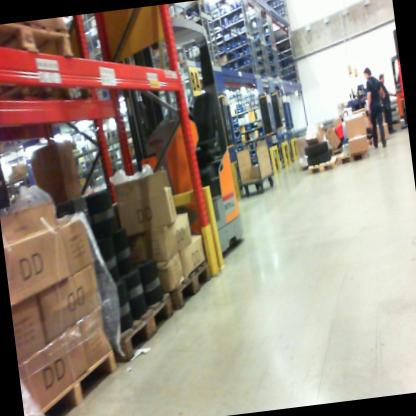forklift: (110, 0, 260, 278), (385, 27, 408, 134)
pallet: (0, 15, 83, 104), (108, 293, 186, 381), (21, 349, 122, 416), (165, 257, 222, 324), (333, 138, 378, 166), (302, 151, 340, 178)
